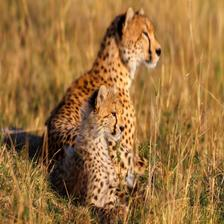Cheetah: (41, 6, 165, 209), (47, 84, 135, 208)
